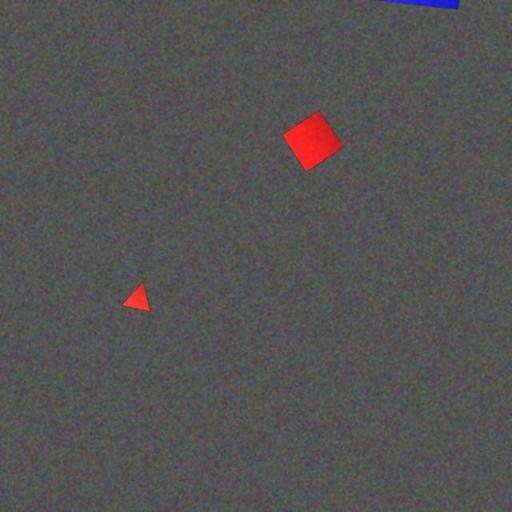RED_SQUARE: (281, 110, 344, 172)
